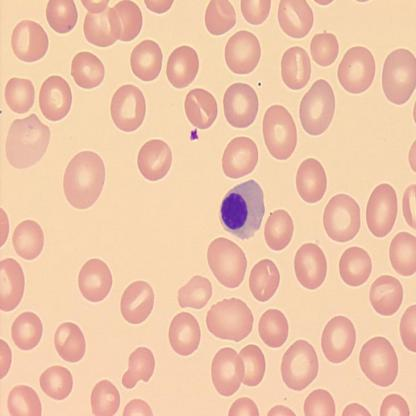NRC: (217, 178, 266, 242)
